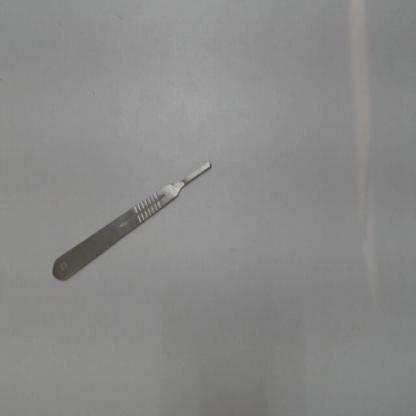No.4 BP Handle: (38, 150, 225, 291)
